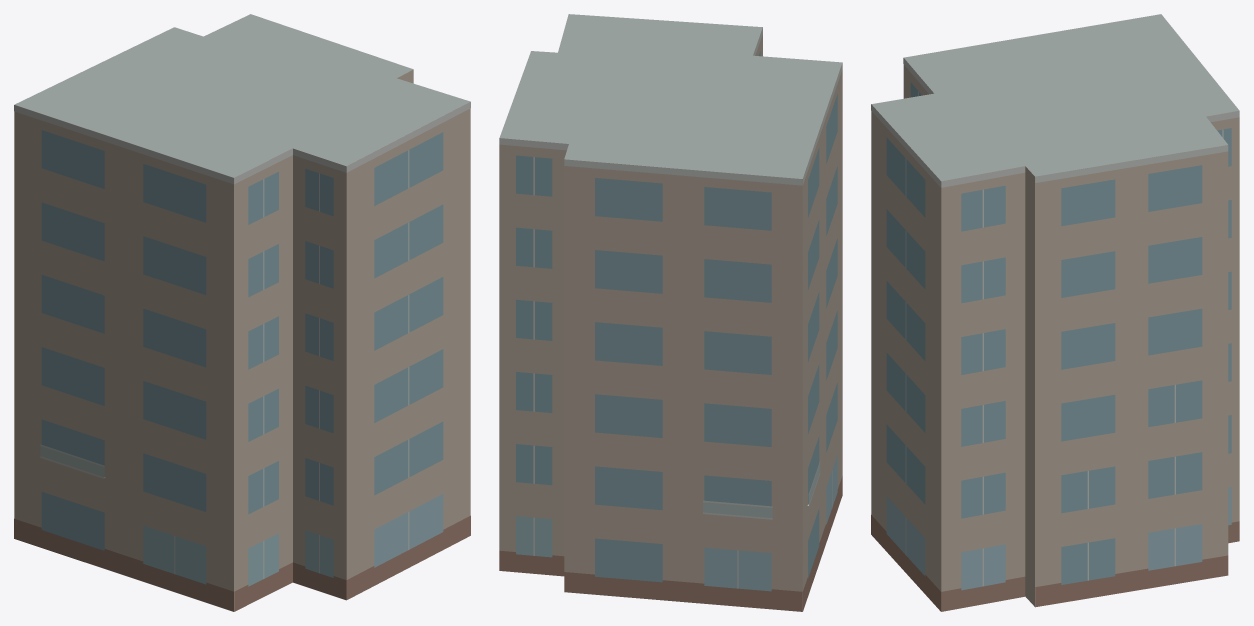
The model's file is survey-upis-32930069.glb.
The picture shows the model from 3 angles, left to right: view 1: azimuth 30°, elevation 25°; view 2: azimuth 150°, elevation 25°; view 3: azimuth 270°, elevation 25°; orthographic projection.
Visible parts, largest first — view 1: survey-upis-32930069.tmp; view 2: survey-upis-32930069.tmp; view 3: survey-upis-32930069.tmp.
Part boxes in pixels (left/top/right/bottom): survey-upis-32930069.tmp: left=14, top=14, right=470, bottom=611; survey-upis-32930069.tmp: left=499, top=14, right=842, bottom=611; survey-upis-32930069.tmp: left=871, top=14, right=1239, bottom=611.
Size of the model in its own units: 13.52 by 16.2 by 12.57.
